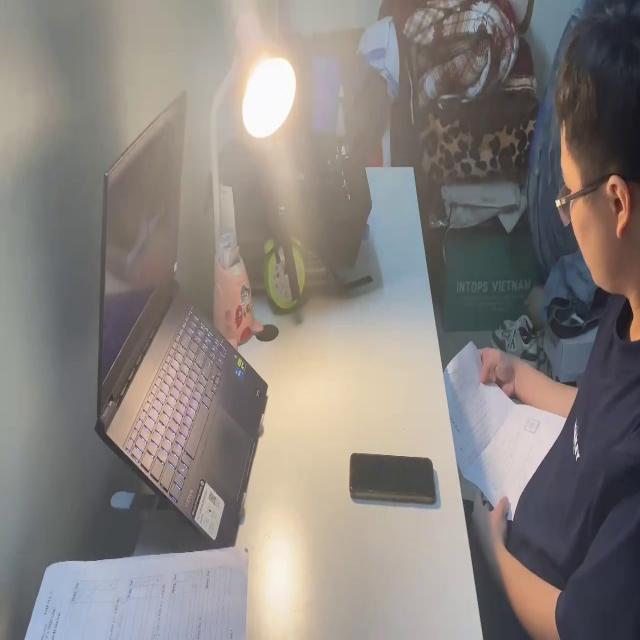book: (441, 337, 570, 524), (23, 544, 249, 640)
laptop: (90, 84, 268, 545)
phone: (348, 446, 438, 509)
student: (443, 0, 640, 640)
